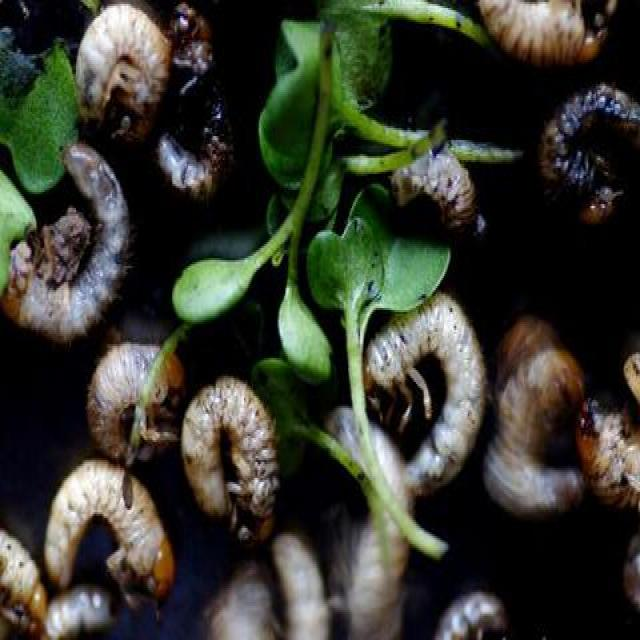Grub-Adult-: (6, 136, 144, 365), (361, 273, 486, 506), (470, 314, 592, 531), (29, 447, 182, 609), (168, 359, 285, 563), (69, 347, 176, 466), (74, 10, 180, 119), (391, 125, 488, 229)
